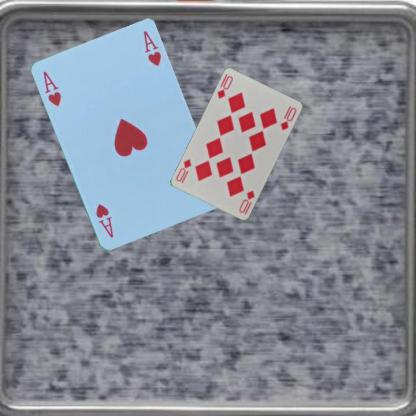10d: (236, 188, 256, 216), (214, 74, 234, 100)
Ah: (40, 69, 63, 108)
